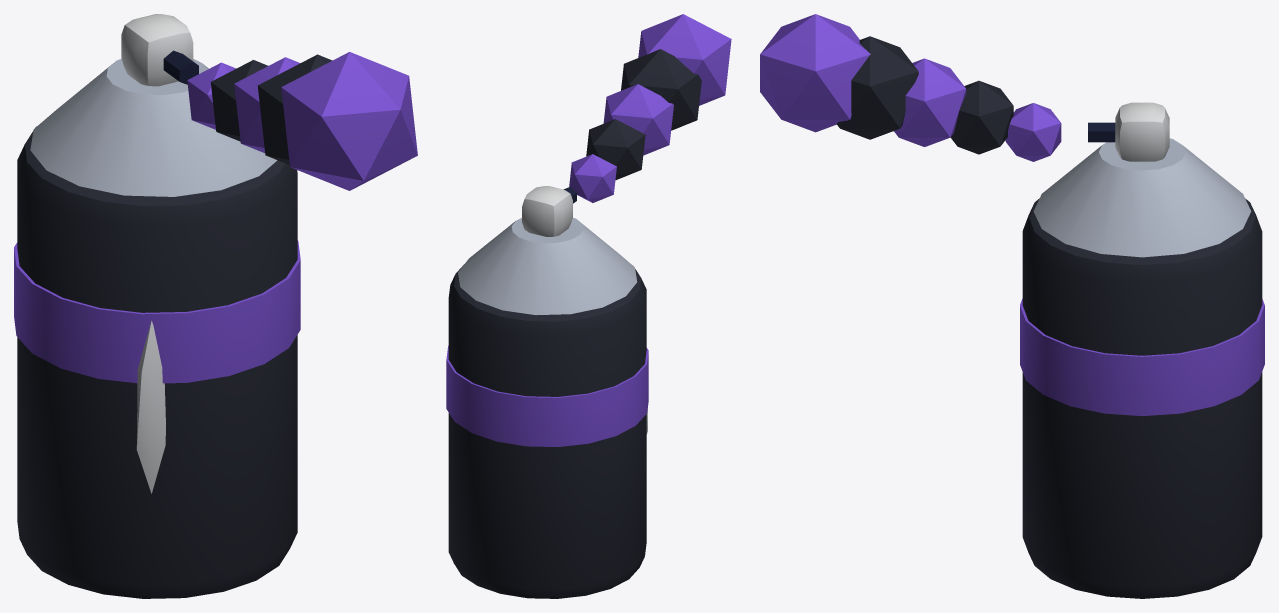
Rendered from lo_wskin_obsidian.glb.
The picture shows the model from 3 angles, left to right: view 1: azimuth 30°, elevation 25°; view 2: azimuth 150°, elevation 25°; view 3: azimuth 270°, elevation 25°; orthographic projection. The views are drawn at different scales.
Parts seen in each view (by area): view 1: body; view 2: body; view 3: body.
Boxes of the visible parts, x1,y1,x2,y2 form: body: [14, 14, 417, 598]; body: [446, 14, 731, 598]; body: [760, 14, 1264, 598].
Bounding box in the file's own units: 0.45 × 1.1 × 0.9271.
